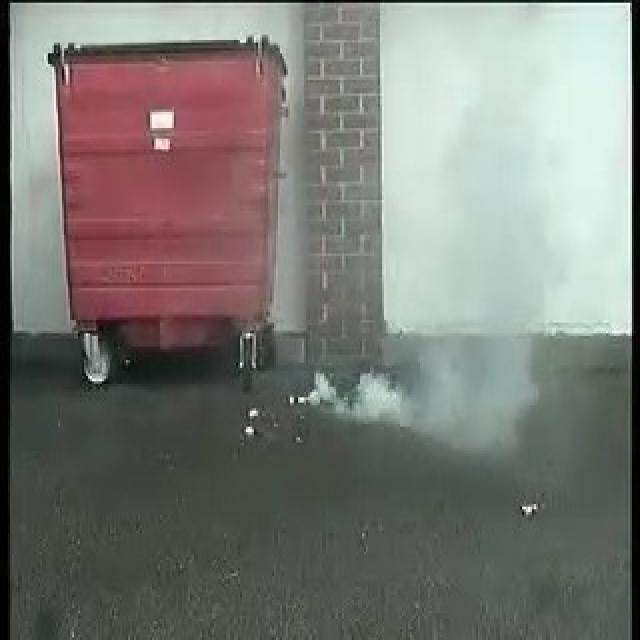smoke: (305, 336, 505, 451)
